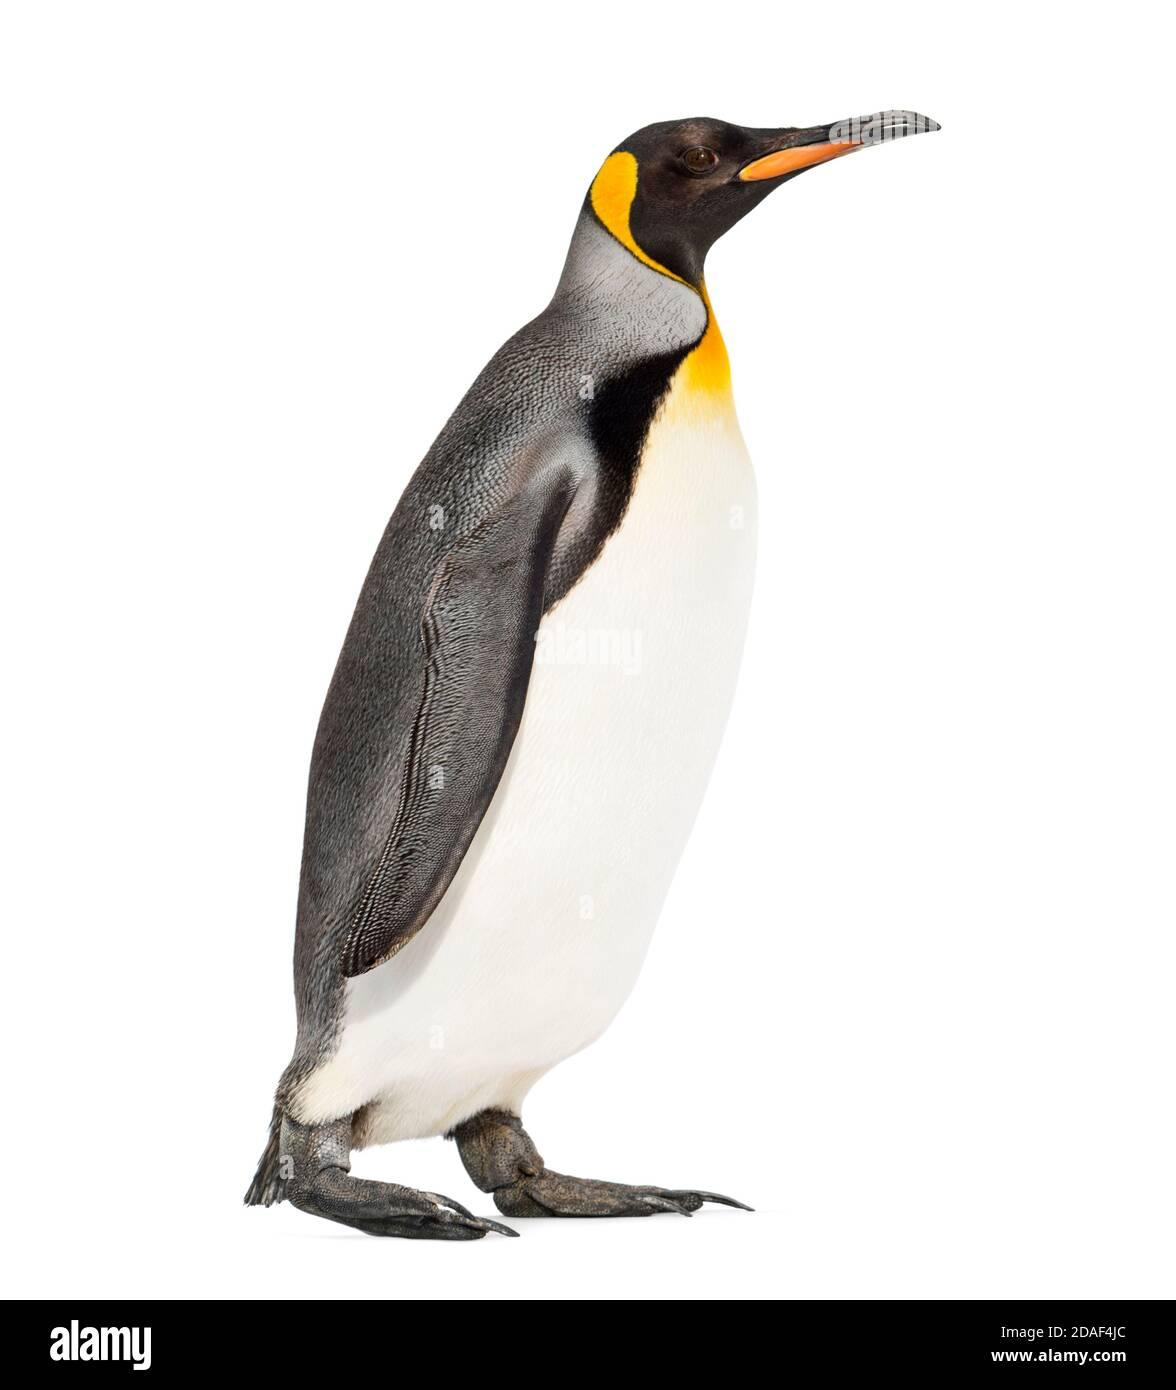king: (235, 57, 959, 1307)
